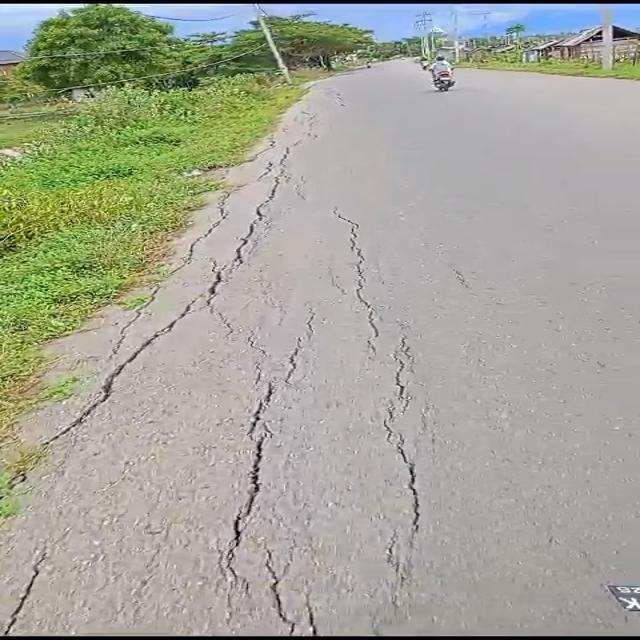Memanjang: (201, 316, 330, 598), (376, 326, 435, 549), (327, 204, 388, 342)
